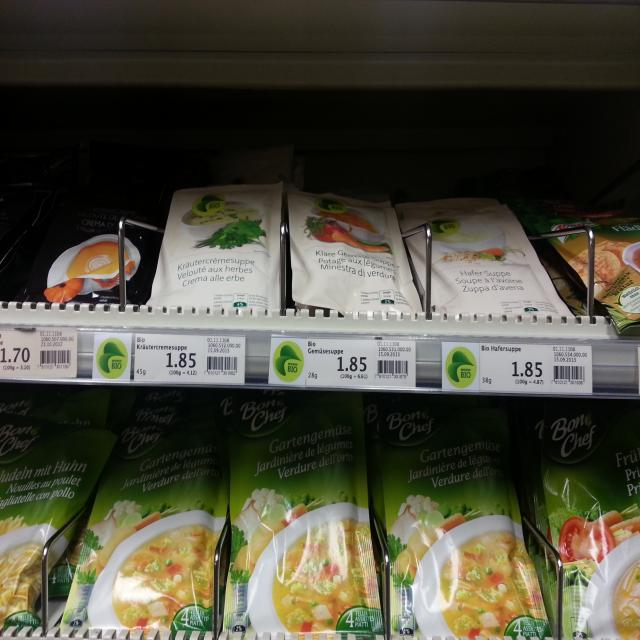Soups: (366, 395, 555, 640), (215, 403, 382, 640), (64, 415, 233, 638), (523, 396, 640, 640), (0, 412, 115, 628), (393, 199, 576, 321), (282, 177, 427, 320), (9, 181, 163, 307), (154, 182, 291, 313), (538, 215, 640, 328)
